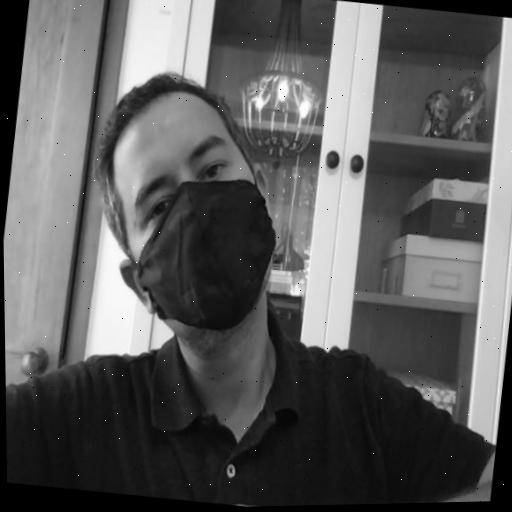mask: (72, 61, 297, 345)
